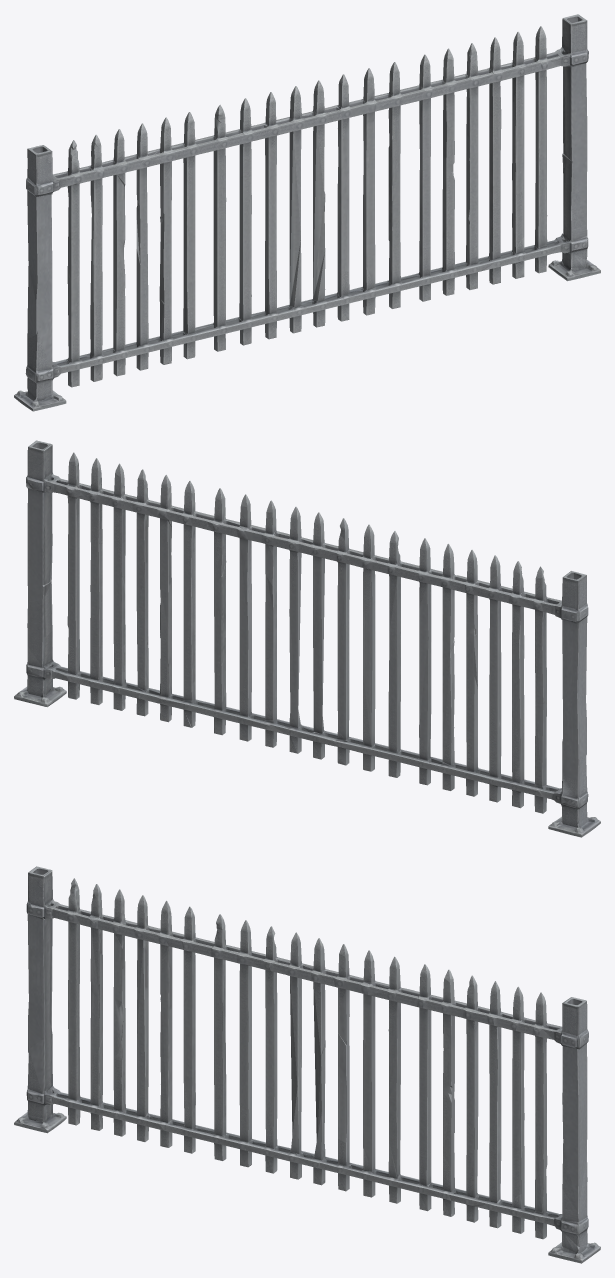
The model's file is A12_RailwayFence.fbx.
3 views of the same model, one above another, from view 1: azimuth 30°, elevation 25°; view 2: azimuth 150°, elevation 25°; view 3: azimuth 330°, elevation 25° (orthographic).
Parts seen in each view (by area): view 1: RailwayFence; view 2: RailwayFence; view 3: RailwayFence.
Part boxes in pixels (left/top/right/bottom): RailwayFence: left=14, top=14, right=600, bottom=411; RailwayFence: left=14, top=440, right=600, bottom=837; RailwayFence: left=14, top=866, right=600, bottom=1263.
Bounding box in the file's own units: 190 × 80.57 × 11.3.
1 material, 1 textured.
